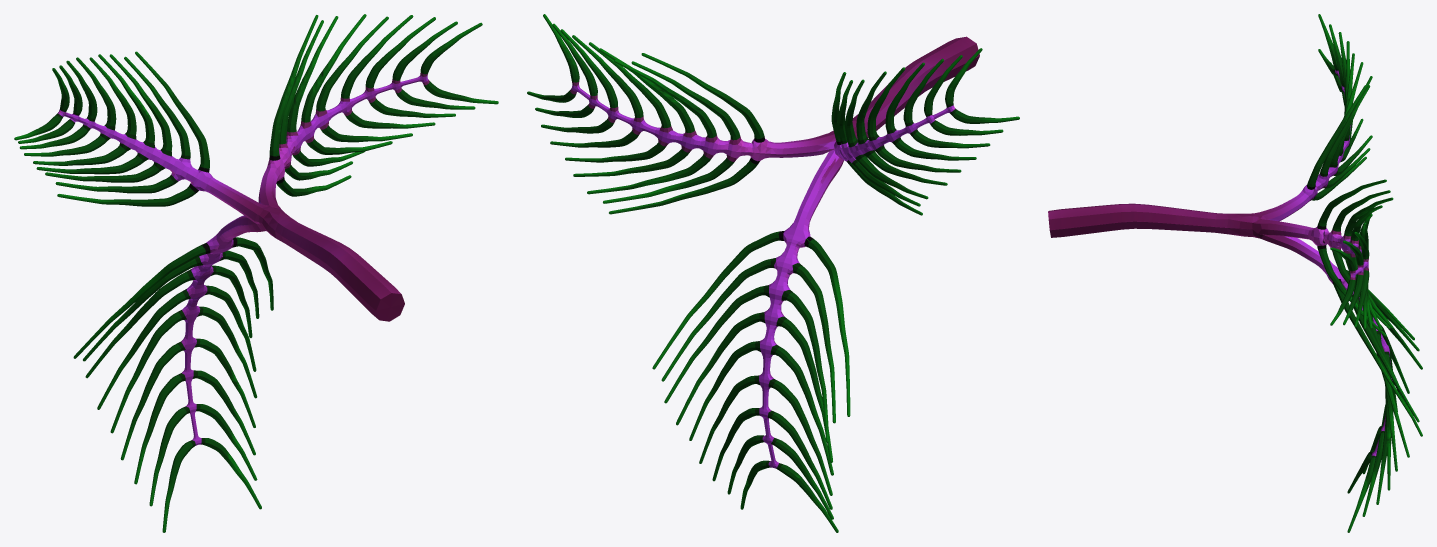
Rendered from Fern.fbx.
3 renders of one model, left to right at view 1: azimuth 30°, elevation 25°; view 2: azimuth 150°, elevation 25°; view 3: azimuth 270°, elevation 25°, orthographic. The views are drawn at different scales.
Visible parts, largest first — view 1: Fern; view 2: Fern; view 3: Fern.
Part boxes in pixels (x1,y1,x2,y2): Fern: [14, 14, 498, 532]; Fern: [527, 14, 1019, 532]; Fern: [1048, 14, 1422, 532].
Bounding box in the file's own units: 2.69 × 2.12 × 2.67.
